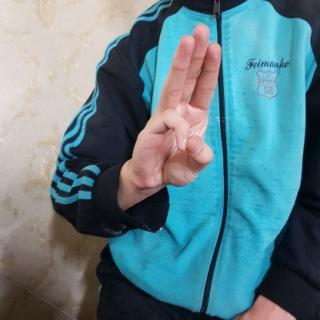THA: (125, 23, 228, 203)
